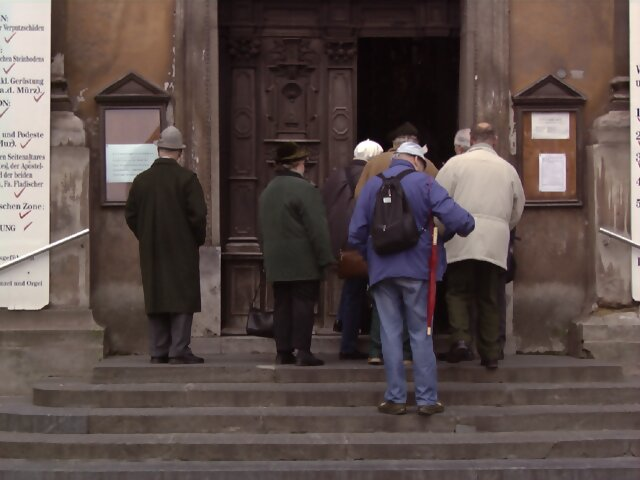person: (346, 134, 457, 422), (123, 121, 222, 369), (252, 141, 338, 366)
